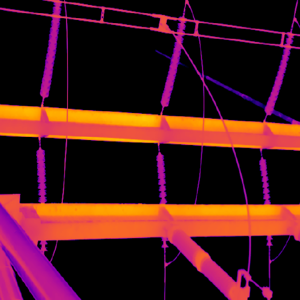insulator: (262, 31, 294, 115), (159, 16, 186, 108), (38, 0, 61, 96), (35, 146, 46, 202), (155, 151, 166, 205), (258, 158, 271, 203)
